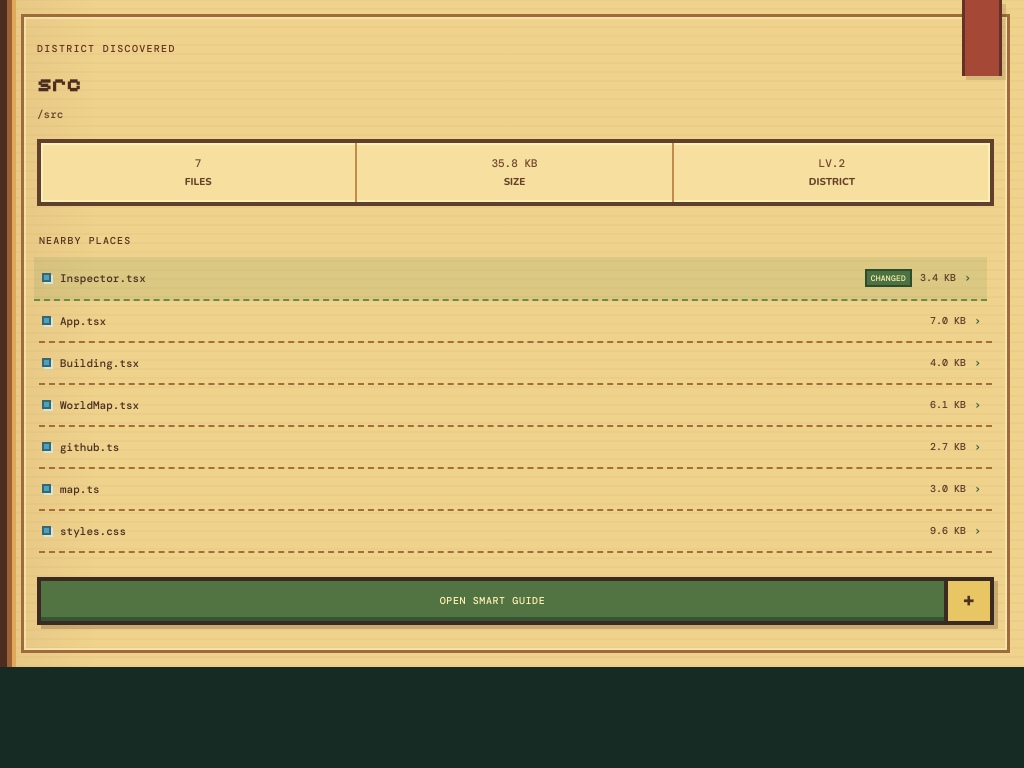
Test: Inspector smart guide › reveals a transparent local reading guide on demand
The image size is (1024, 768).
Click the button "OPEN SMART GUIDE +".
click(516, 601)  # box x1=37 y1=577 x2=994 y2=625
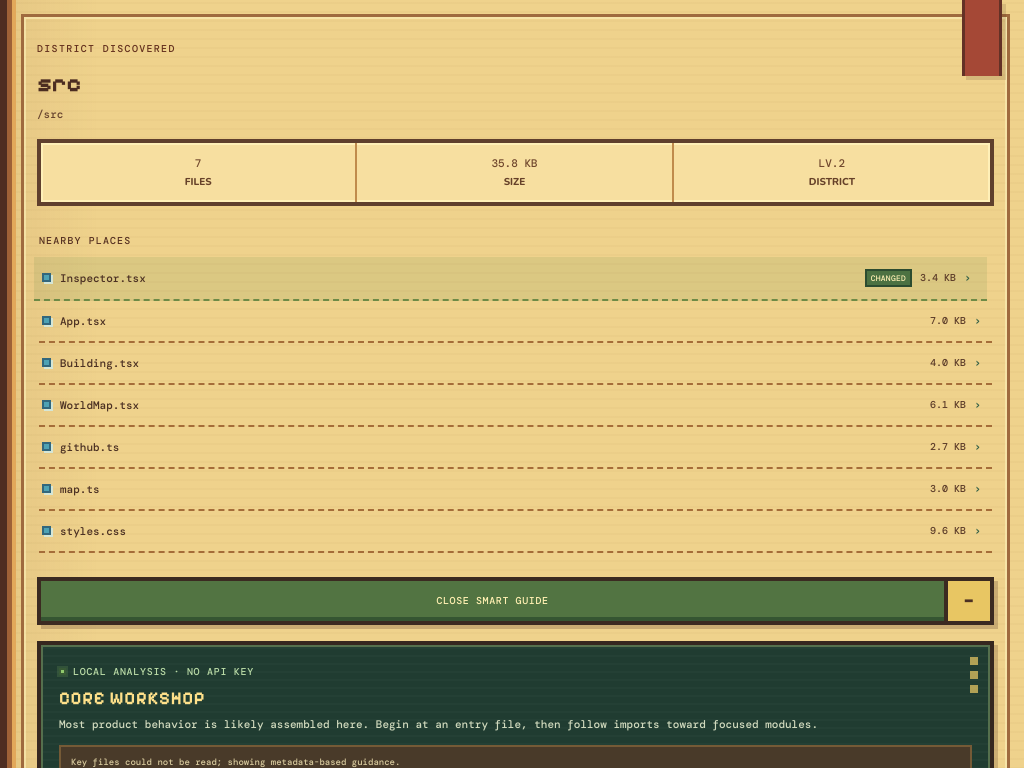
Check: the text "LOCAL ANALYSIS · NO API KEY" is shown, box x1=59 y1=665 x2=254 y2=678
Check: the text "CORE WORKSHOP" is shown, box x1=59 y1=687 x2=205 y2=709
Check: the button "CLOSE SMART GUIDE −" is expanded, box x1=37 y1=577 x2=994 y2=625
